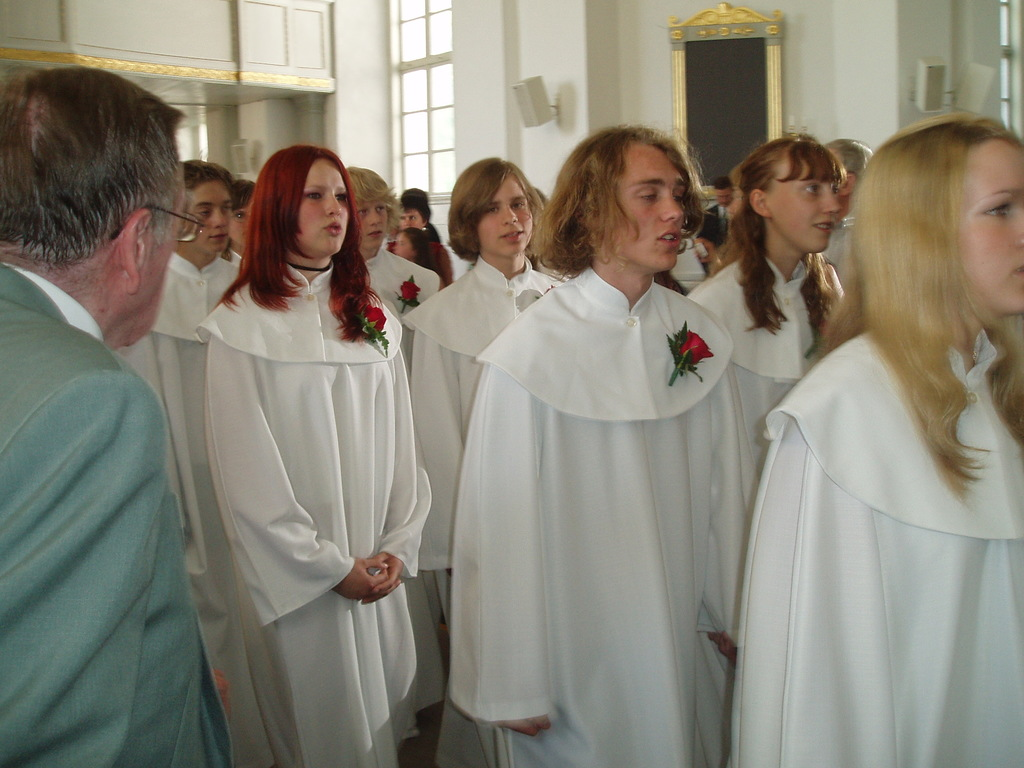person: (811, 133, 878, 343)
